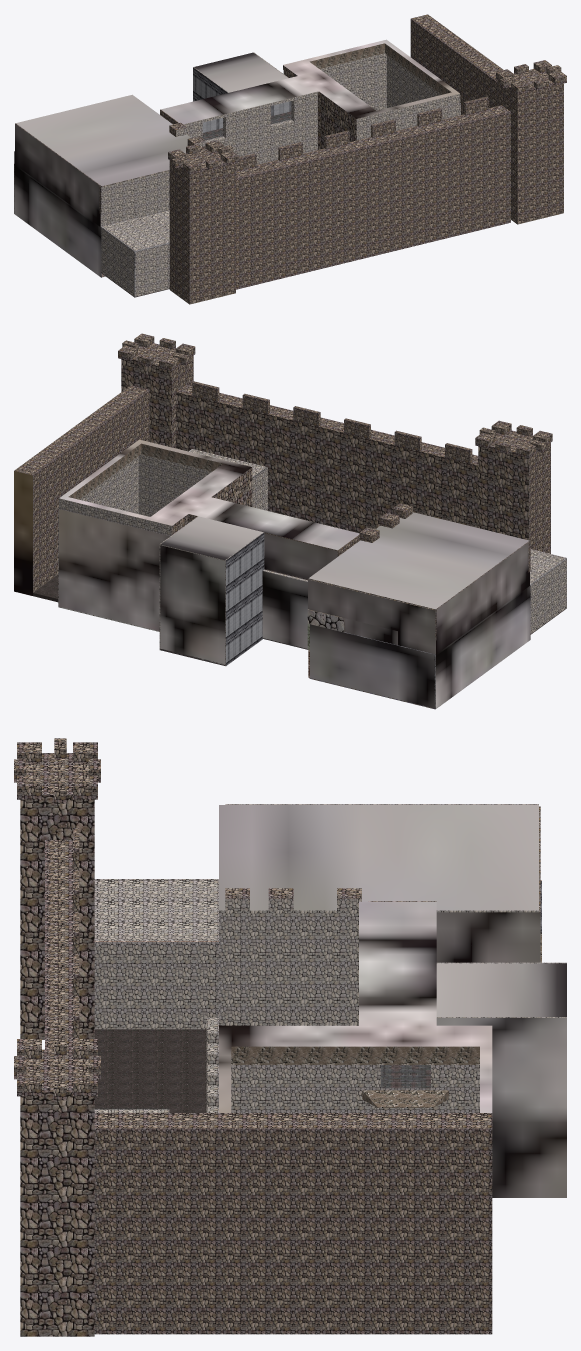
The model's file is level1.glb.
3 views of the same model, one above another, from view 1: azimuth 30°, elevation 25°; view 2: azimuth 150°, elevation 25°; view 3: azimuth 270°, elevation 25° (orthographic). The views are drawn at different scales.
Parts seen in each view (by area): view 1: root; view 2: root; view 3: root.
Boxes of the visible parts, x1,y1,x2,y2 form: root: (14,14,566,304); root: (14,333,566,709); root: (14,738,566,1336).
Bounding box in the file's own units: 4585 × 1528 × 2848.
78 materials, 78 textured.
